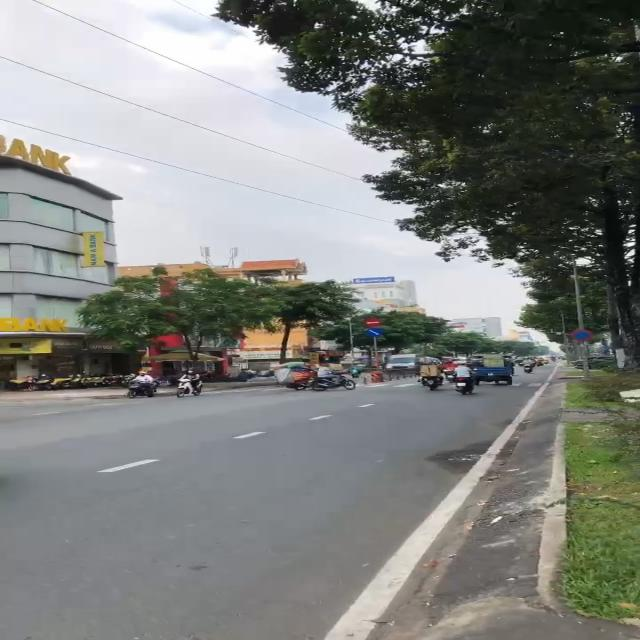Bien bao cam di nguoc chieu: (363, 316, 383, 328)
Bien bao huong phai di vong chuong ngai vat: (364, 328, 383, 337)
